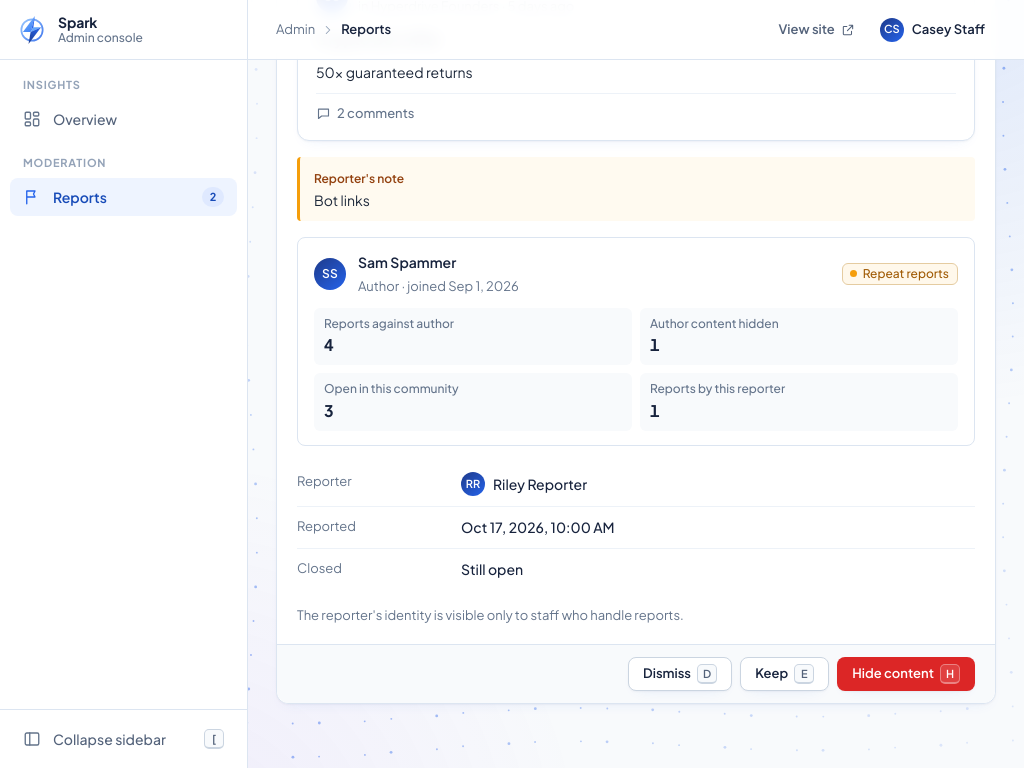
Test: reports queue › resolves a report with a reason, removes it from the open queue and confirms
(page scrolled)
expect the text "50x guaranteed returns" is shown: met, box [316, 63, 473, 81]
expect the text "Riley Reporter" is shown: met, box [493, 474, 587, 492]
Click the button "Hide content H".
click(906, 674)  # box [837, 656, 975, 690]
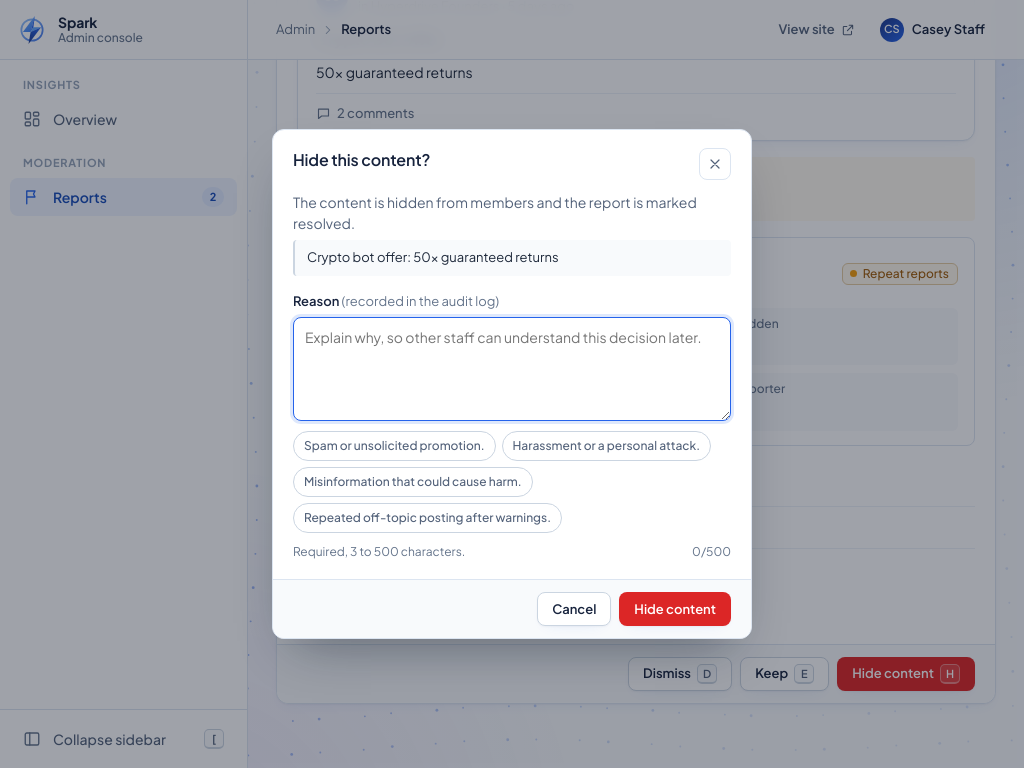
Type "Scam links" into the text box labelled "Reason (recorded in the audit log)".
click(512, 369); type("Scam links")  # box [293, 317, 731, 421]
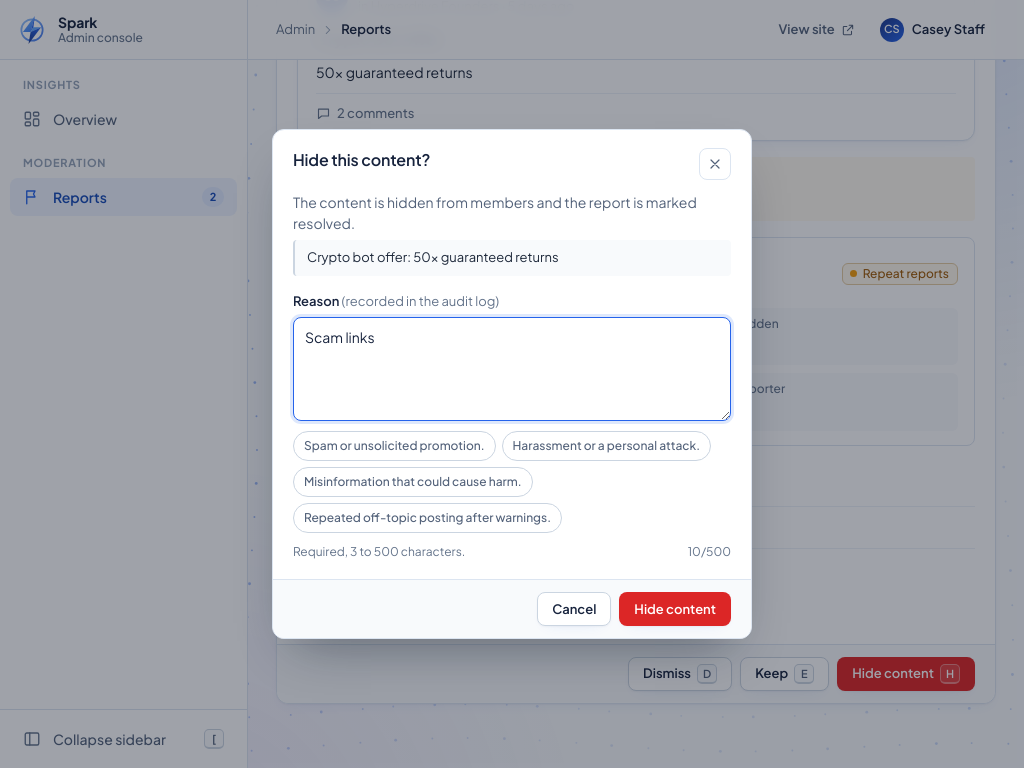
Click the button "Hide content".
click(675, 609)  # box [619, 592, 731, 626]
(page scrolled)
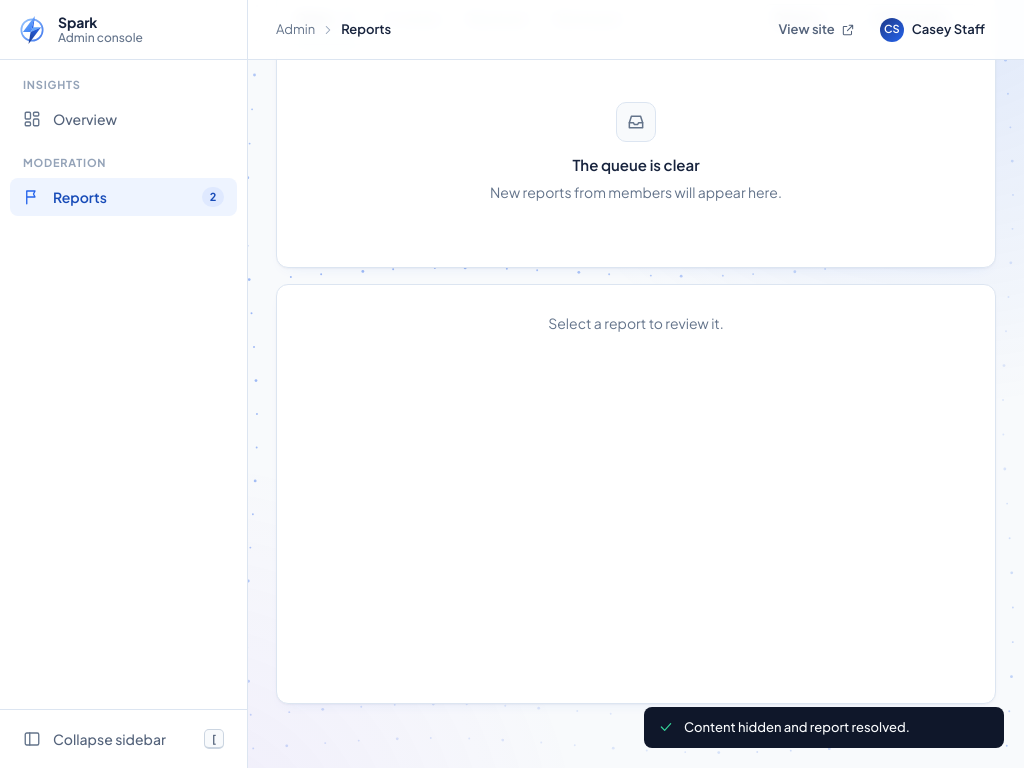
expect the dialog is gone: met
expect the heading "The queue is clear" is shown: met, box [572, 154, 700, 176]
expect the text "Content hidden and report resolved." is shown: met, box [684, 718, 910, 737]
